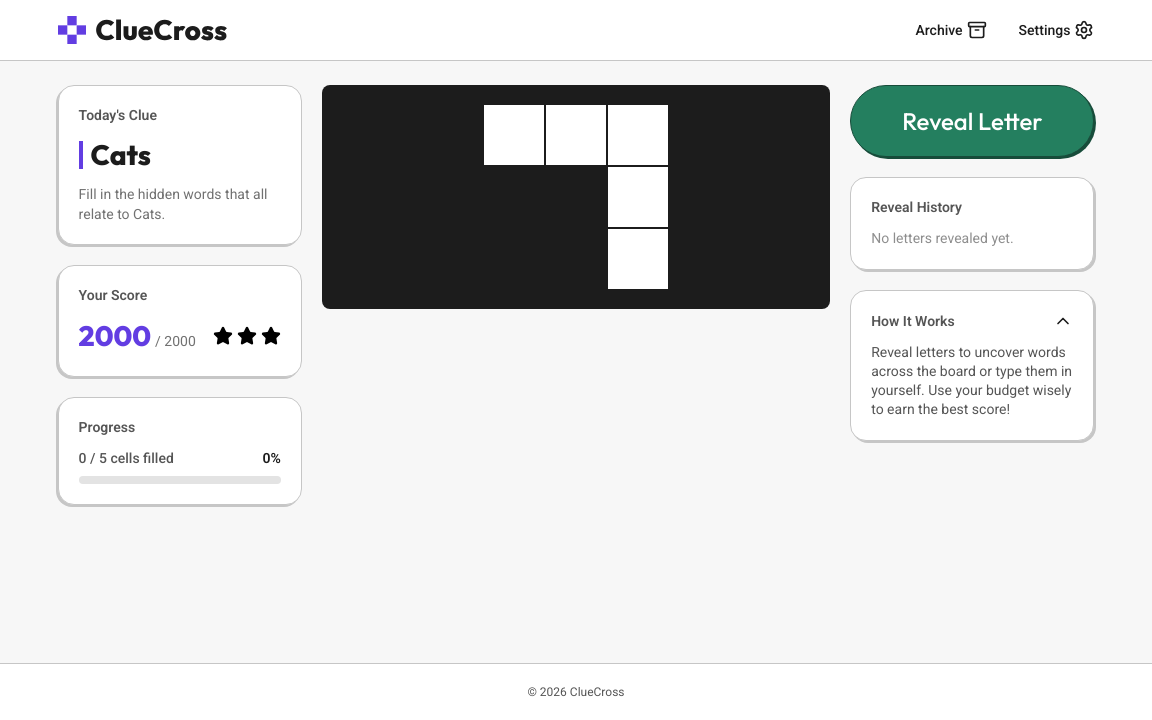
it: bad or unavailable storage never breaks the player › plays normally when localStorage throws
Click the button "Reveal Letter". click: (972, 121)
box: left=850, top=85, right=1094, bottom=157
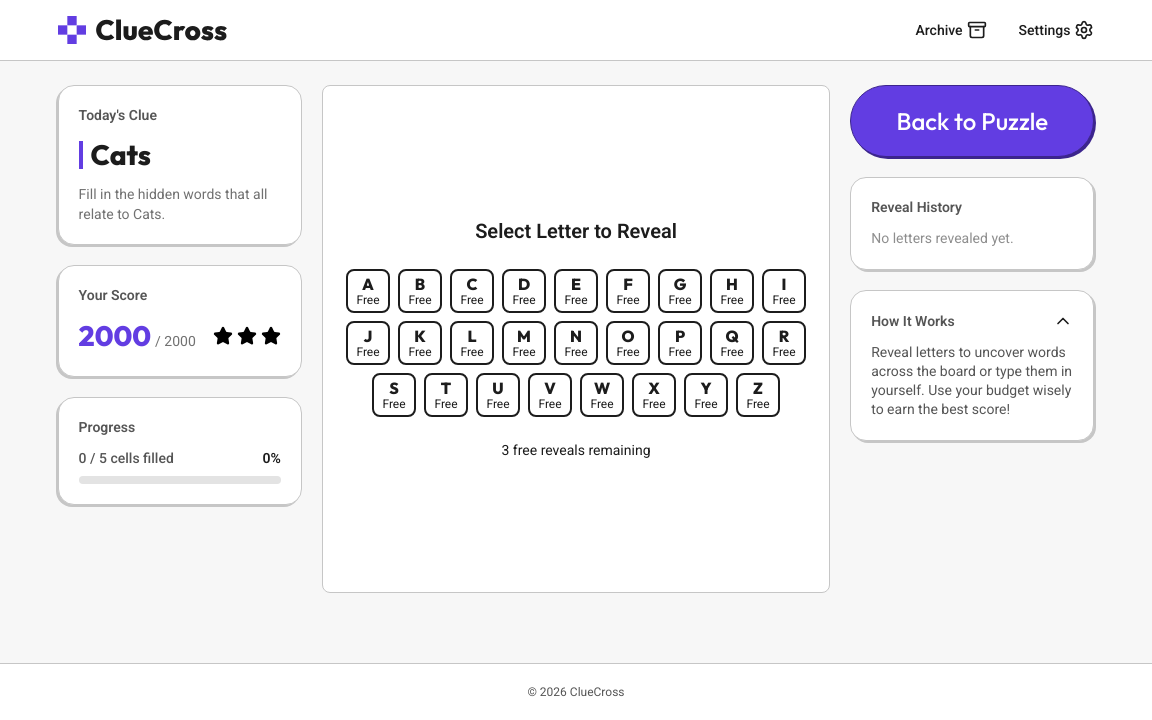
Click the button with test id "letter-C". click: (472, 291)
box: left=450, top=269, right=494, bottom=313
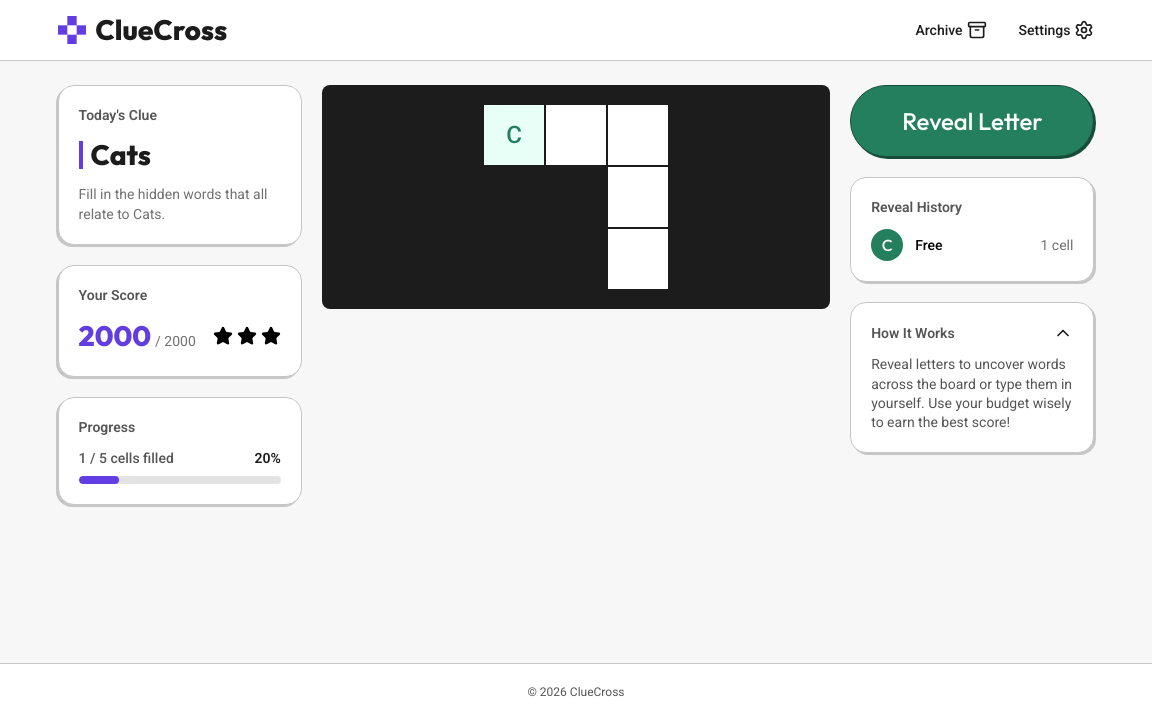
Now the field with test id "cell-r0c0" holds "C", box left=484, top=105, right=544, bottom=165
